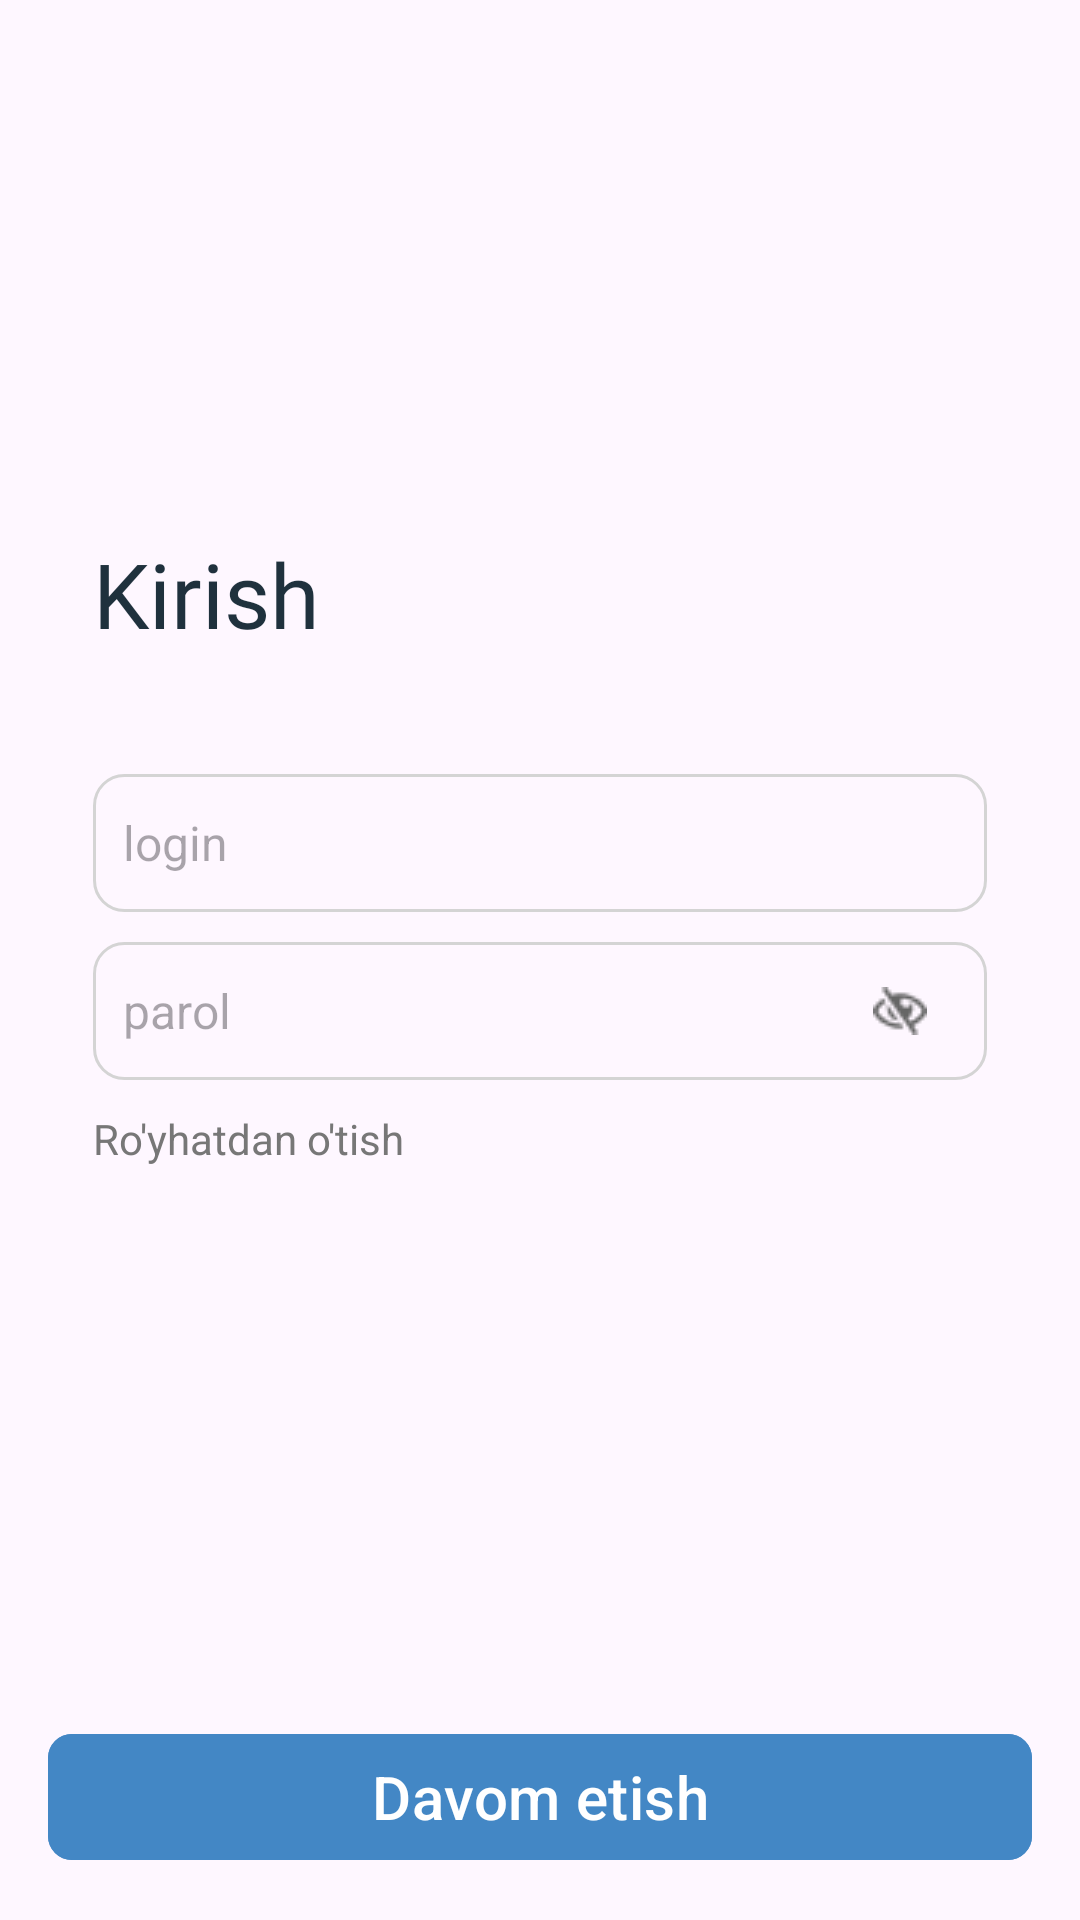

Screen size 1080×1920. Icon name, then its center in pixels as [x,y]:
password: [900,1011]
